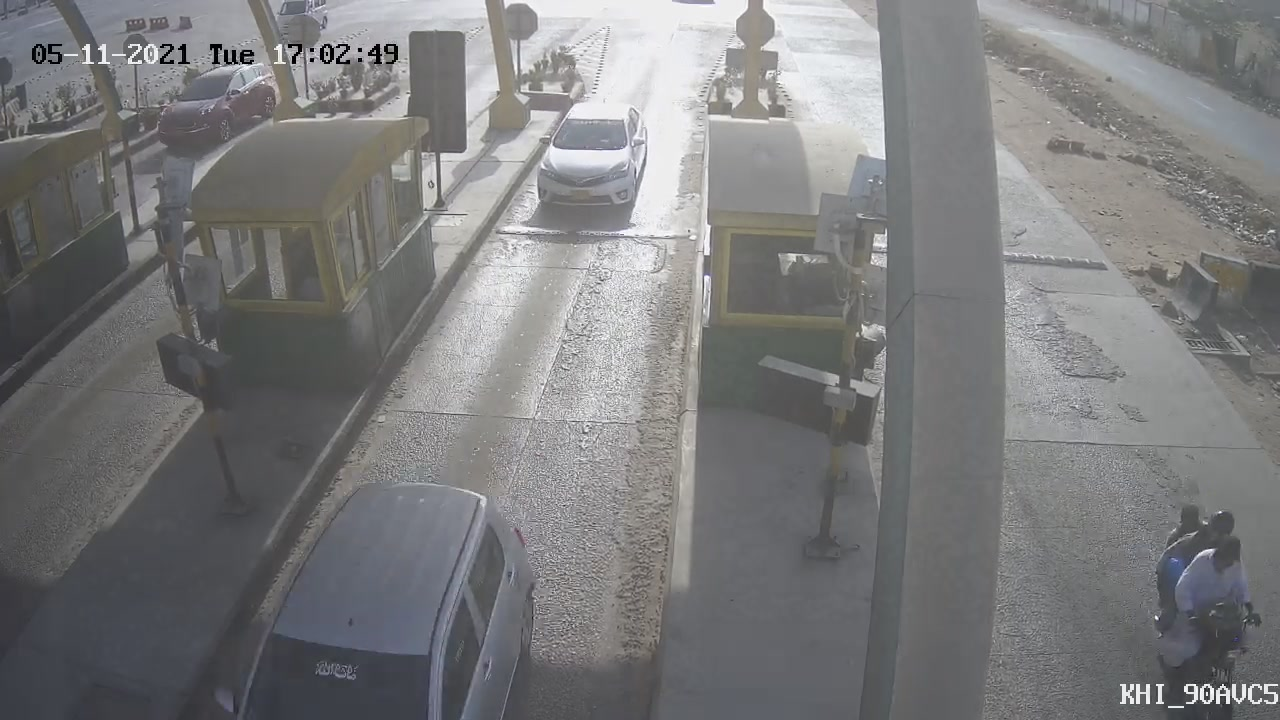F1: (507, 81, 674, 234)
